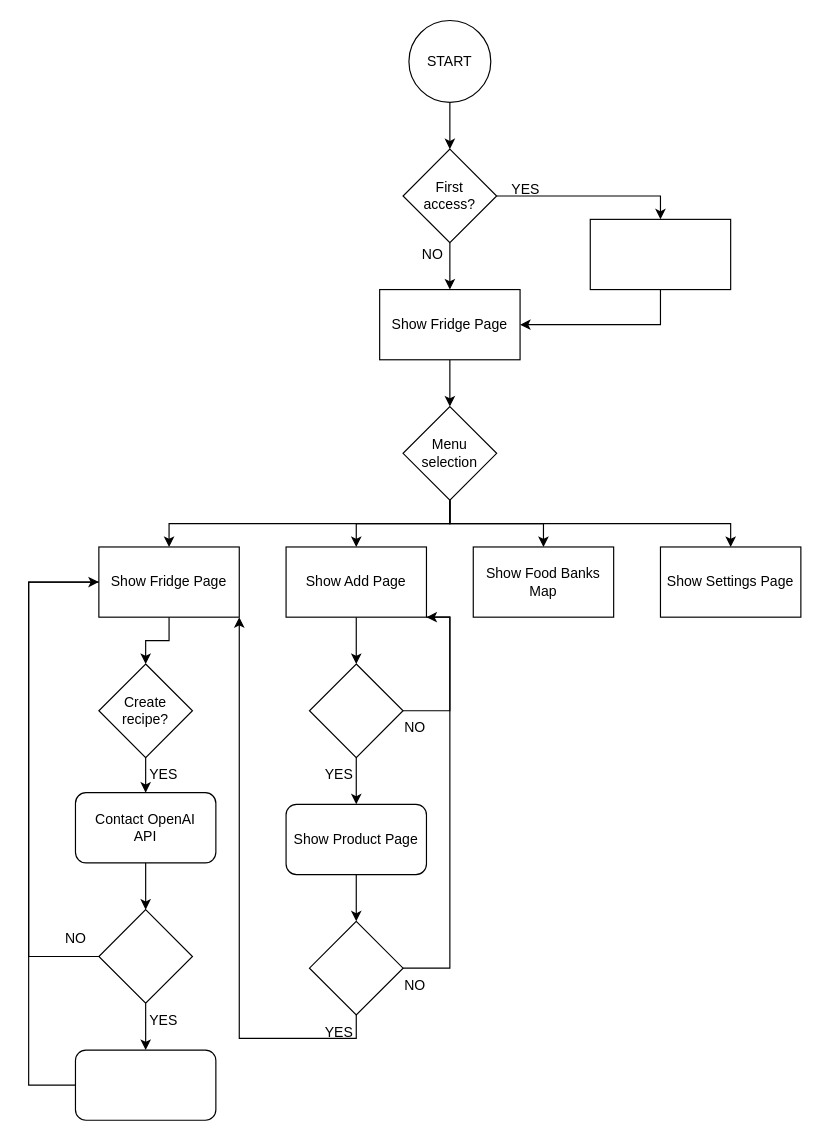
This 821x1141 diagram has some shape labels left out. Here are the shapes that lost their labels. From the top down, the box of each, then its label:
(589, 218, 731, 290): Show Onboarding Screen
(308, 663, 403, 758): Barcode detected?
(98, 909, 192, 1003): Recipe created?
(308, 920, 403, 1015): Add product?
(74, 1049, 216, 1120): Show Recipe
